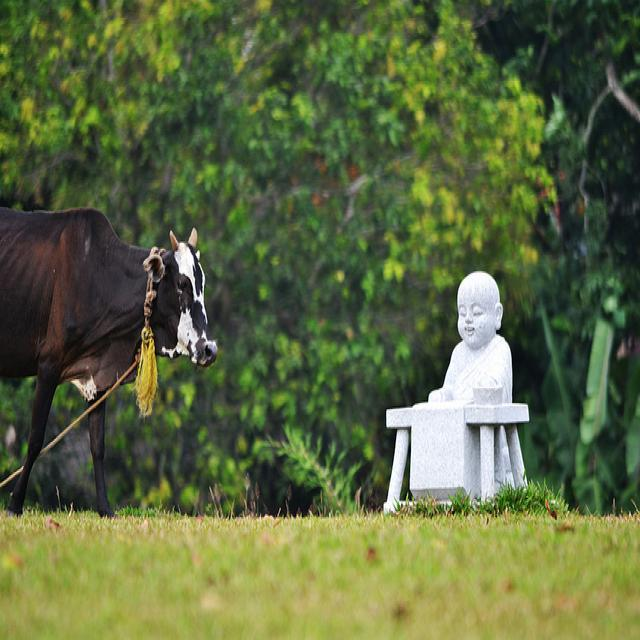cow: (0, 204, 215, 514)
